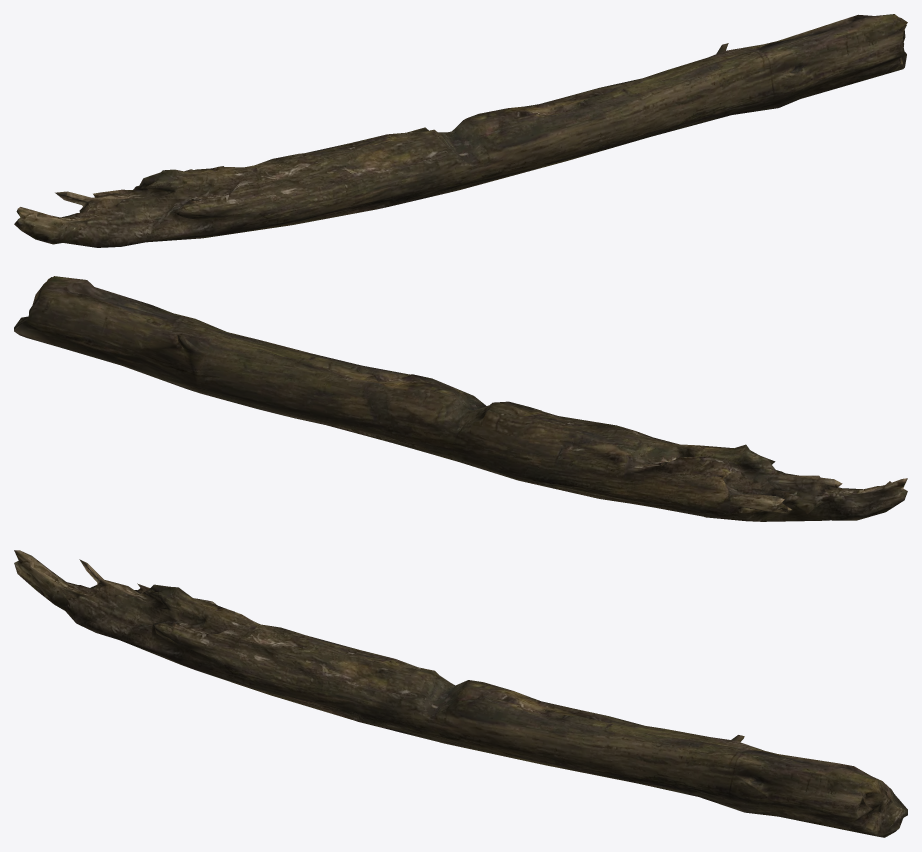
Rendered from log.glb.
3 views of the same model, one above another, from view 1: azimuth 30°, elevation 25°; view 2: azimuth 150°, elevation 25°; view 3: azimuth 330°, elevation 25° (orthographic).
Parts seen in each view (by area): view 1: dead_tree_trunk; view 2: dead_tree_trunk; view 3: dead_tree_trunk.
Boxes of the visible parts, x1,y1,x2,y2 form: dead_tree_trunk: [14, 14, 907, 247]; dead_tree_trunk: [14, 276, 907, 521]; dead_tree_trunk: [14, 550, 907, 837].
Bounding box in the file's own units: 3.4 × 0.32 × 0.3068.
1 material, 1 textured.
